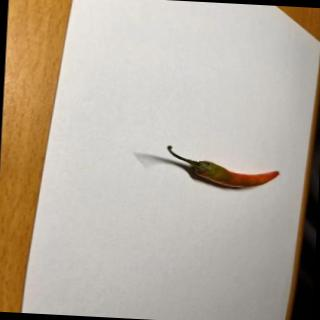Cabai Merah: (166, 146, 282, 192)
